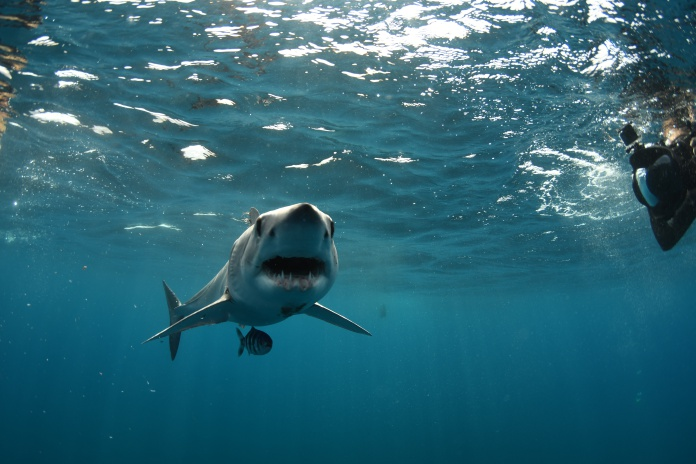Mako: (136, 195, 388, 366)
